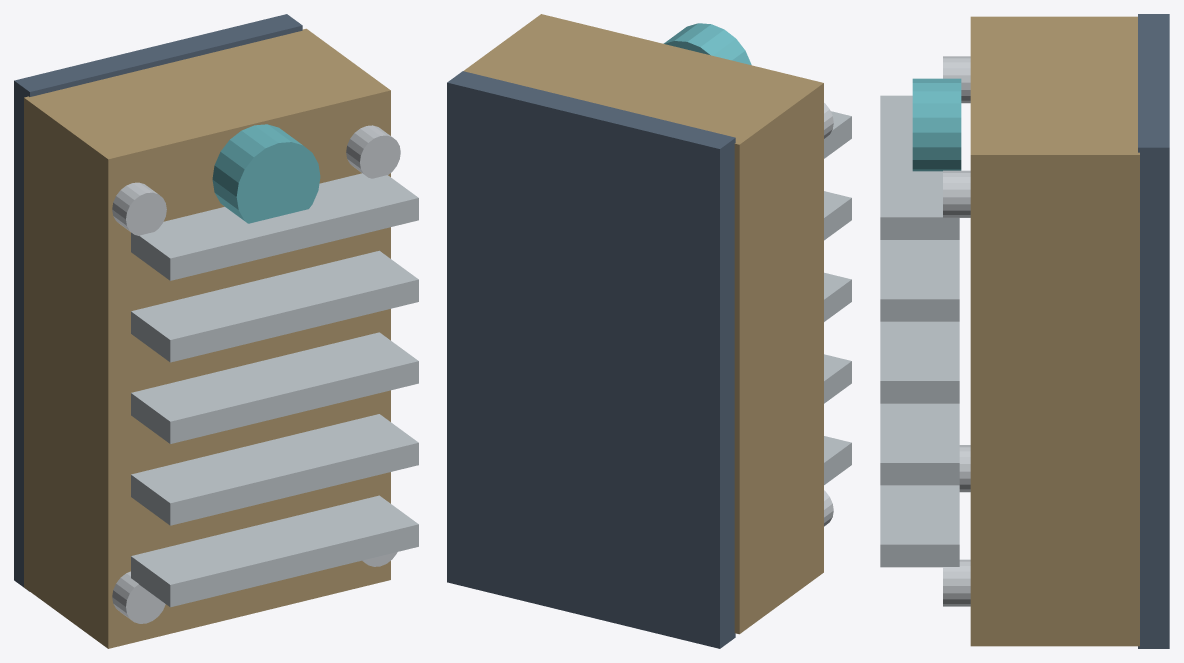
The model's file is sat_thermal_module.glb.
The picture shows the model from 3 angles, left to right: view 1: azimuth 30°, elevation 25°; view 2: azimuth 150°, elevation 25°; view 3: azimuth 270°, elevation 25°; orthographic projection.
Visible parts, largest first — view 1: subsystem_case, heatsink_1, heatsink_2, heatsink_3, heatsink_0, heatsink_4, mounting_backplane, thermal_sensor, mount_0.12_0.19, mount_-0.12_0.19, mount_-0.12_-0.19; view 2: mounting_backplane, subsystem_case, thermal_sensor, heatsink_1, heatsink_3, heatsink_2, heatsink_0, heatsink_4; view 3: subsystem_case, mounting_backplane, heatsink_4, heatsink_1, heatsink_2, heatsink_0, heatsink_3, thermal_sensor, mount_0.12_0.19, mount_0.12_-0.19, mount_-0.12_0.19, mount_-0.12_-0.19.
Boxes of the visible parts, <box> form: subsystem_case: <box>24,28,390,648</box>; heatsink_1: <box>131,414,418,525</box>; heatsink_2: <box>131,332,418,443</box>; heatsink_3: <box>131,250,418,362</box>; heatsink_0: <box>131,495,418,607</box>; heatsink_4: <box>131,173,418,280</box>; mounting_backplane: <box>14,14,302,591</box>; thermal_sensor: <box>212,124,320,223</box>; mount_0.12_0.19: <box>346,125,400,178</box>; mount_-0.12_0.19: <box>112,182,166,235</box>; mount_-0.12_-0.19: <box>112,571,165,623</box>; mounting_backplane: <box>447,71,735,648</box>; subsystem_case: <box>463,14,823,634</box>; thermal_sensor: <box>663,23,751,65</box>; heatsink_1: <box>824,354,851,403</box>; heatsink_3: <box>824,191,851,240</box>; heatsink_2: <box>824,272,851,321</box>; heatsink_0: <box>824,436,851,484</box>; heatsink_4: <box>824,111,851,158</box>; subsystem_case: <box>970,16,1139,646</box>; mounting_backplane: <box>1138,14,1169,648</box>; heatsink_4: <box>880,95,959,239</box>; heatsink_1: <box>880,403,959,485</box>; heatsink_2: <box>880,321,959,403</box>; heatsink_0: <box>880,485,959,567</box>; heatsink_3: <box>880,240,959,321</box>; thermal_sensor: <box>912,78,961,171</box>; mount_0.12_0.19: <box>943,170,970,217</box>; mount_0.12_-0.19: <box>943,559,970,606</box>; mount_-0.12_0.19: <box>943,56,970,103</box>; mount_-0.12_-0.19: <box>959,445,970,492</box>.
Size of the model in its own units: 0.29 by 0.49 by 0.256.
